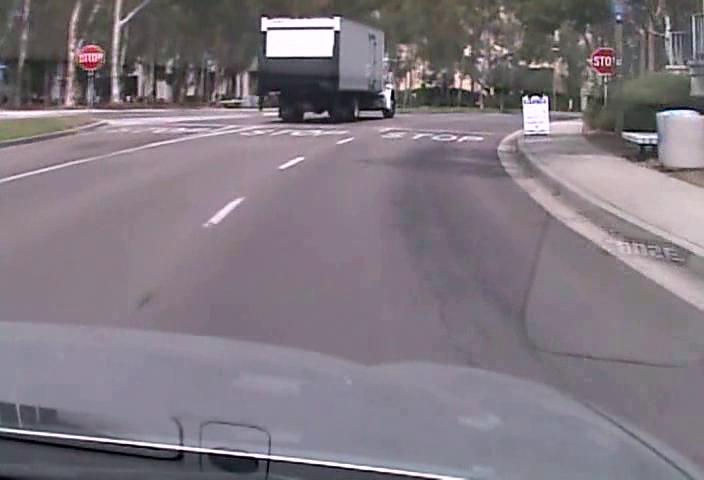stop: (76, 43, 103, 70)
